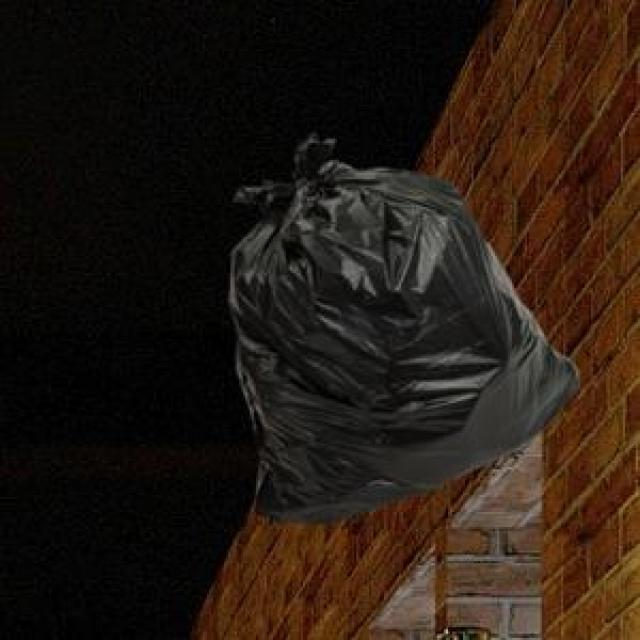Vinyl: (238, 138, 580, 542)
